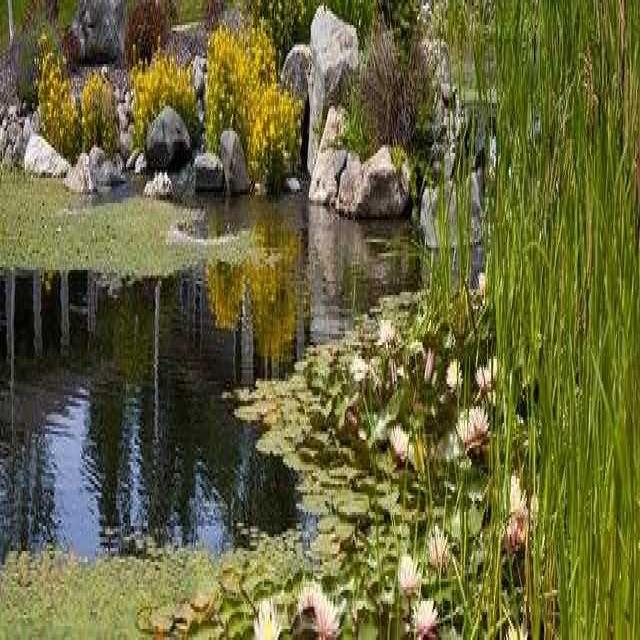Ponds: (3, 170, 525, 640)
